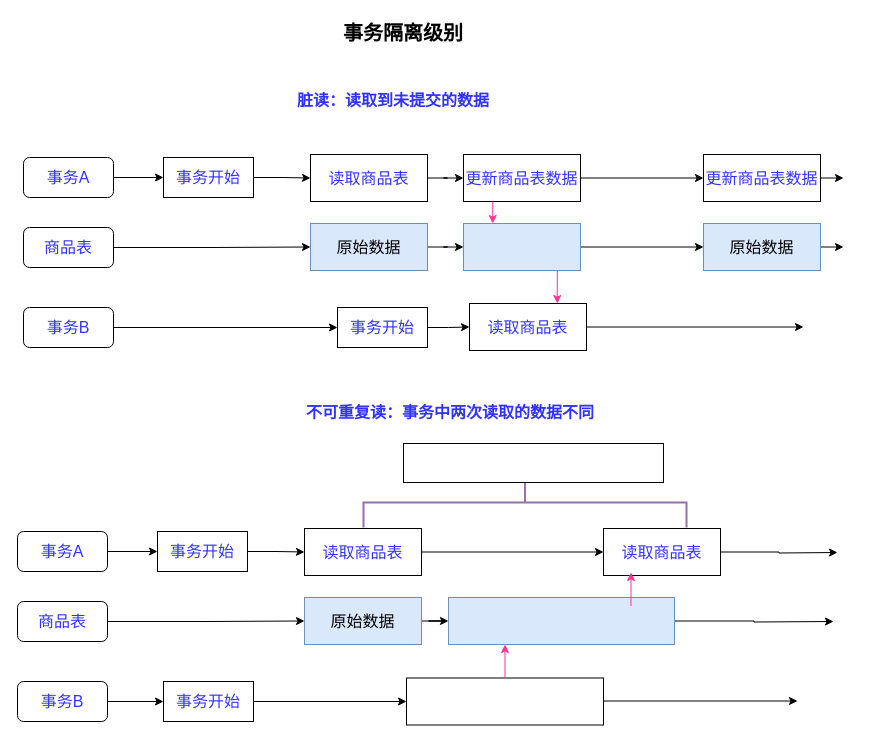
The diagram is 869 pixels wide and 742 high, and some of its shapes have lost their labels. Each missing label, with the centre of its shape:
"两次读取结果不同" belongs at (533,462).
"提交前数据" belongs at (521,246).
"更新后数据" belongs at (561,620).
"更新商品表" belongs at (505,701).
